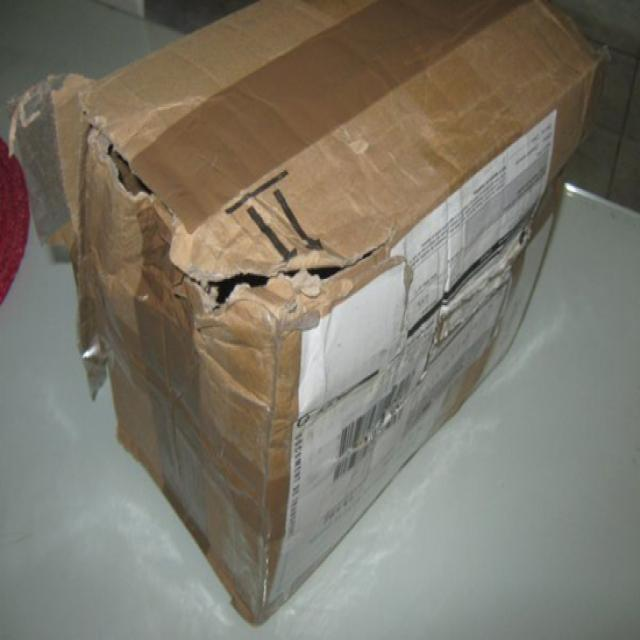damaged: (195, 243, 368, 324)
